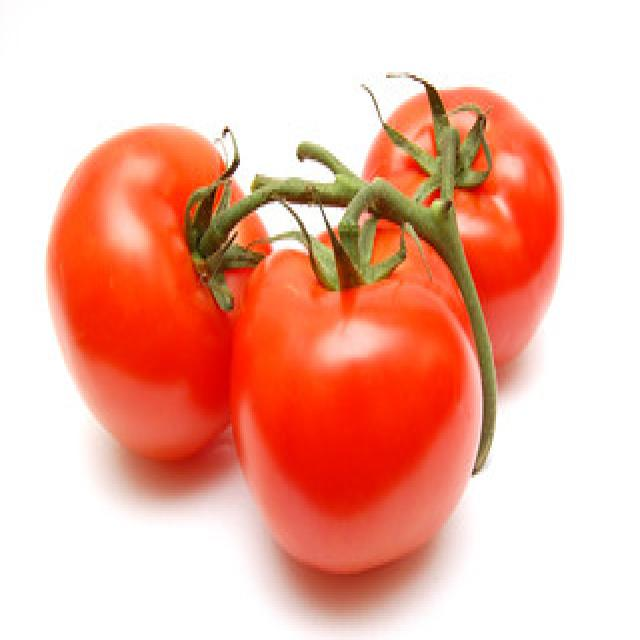Tomato: (226, 207, 494, 584), (37, 118, 275, 480), (354, 83, 570, 409)
